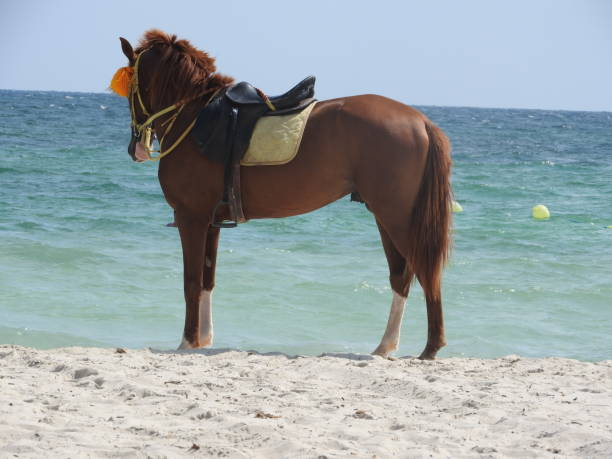Horse: (82, 23, 536, 420)
